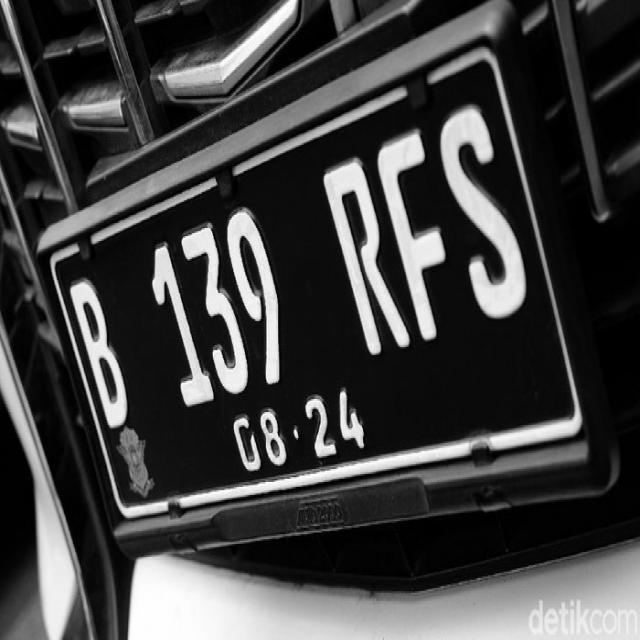1: (130, 233, 223, 420)
3: (173, 215, 263, 408)
9: (215, 193, 309, 397)
B: (65, 266, 140, 435)
F: (364, 116, 477, 359)
R: (310, 148, 422, 367)
S: (421, 87, 548, 341)
